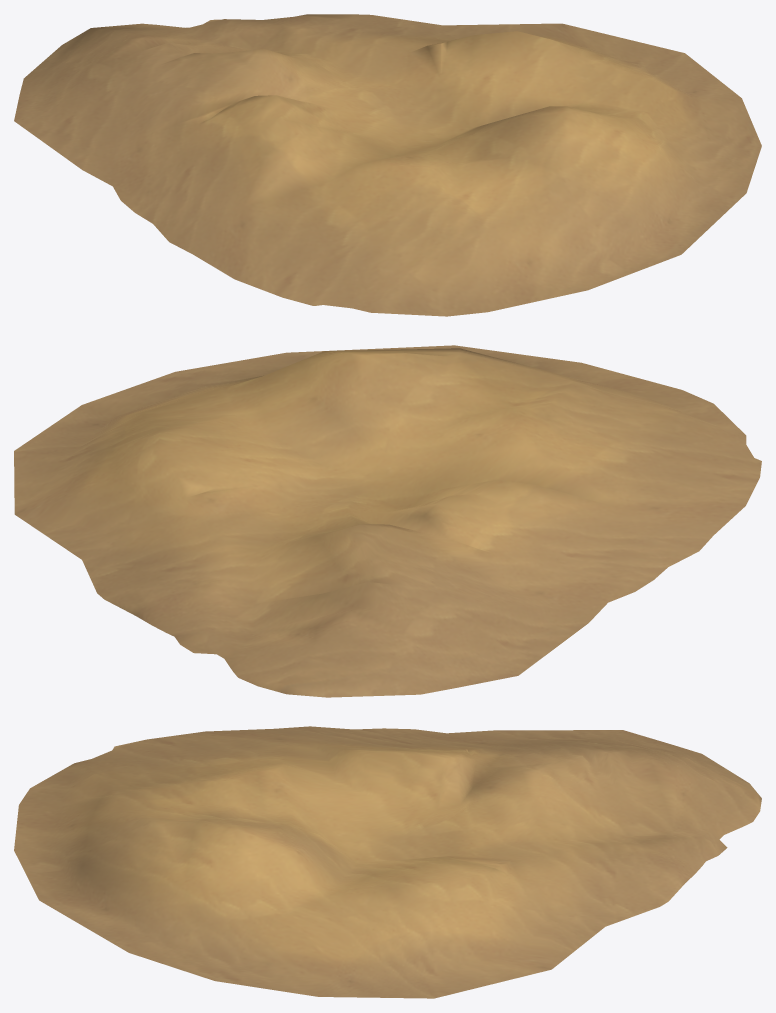
Rendered from Area_13_5.fbx.
The picture shows the model from 3 angles, top to bottom: view 1: azimuth 30°, elevation 25°; view 2: azimuth 150°, elevation 25°; view 3: azimuth 270°, elevation 25°; orthographic projection. The views are drawn at different scales.
Visible parts, largest first — view 1: Area_13_5; view 2: Area_13_5; view 3: Area_13_5.
Part boxes in pixels (x1,y1,x2,y2): Area_13_5: [14, 14, 761, 316]; Area_13_5: [14, 345, 761, 697]; Area_13_5: [14, 726, 761, 998].
Size of the model in its own units: 5036 by 574 by 5848.
Materials: 1 (1 with a texture image).
